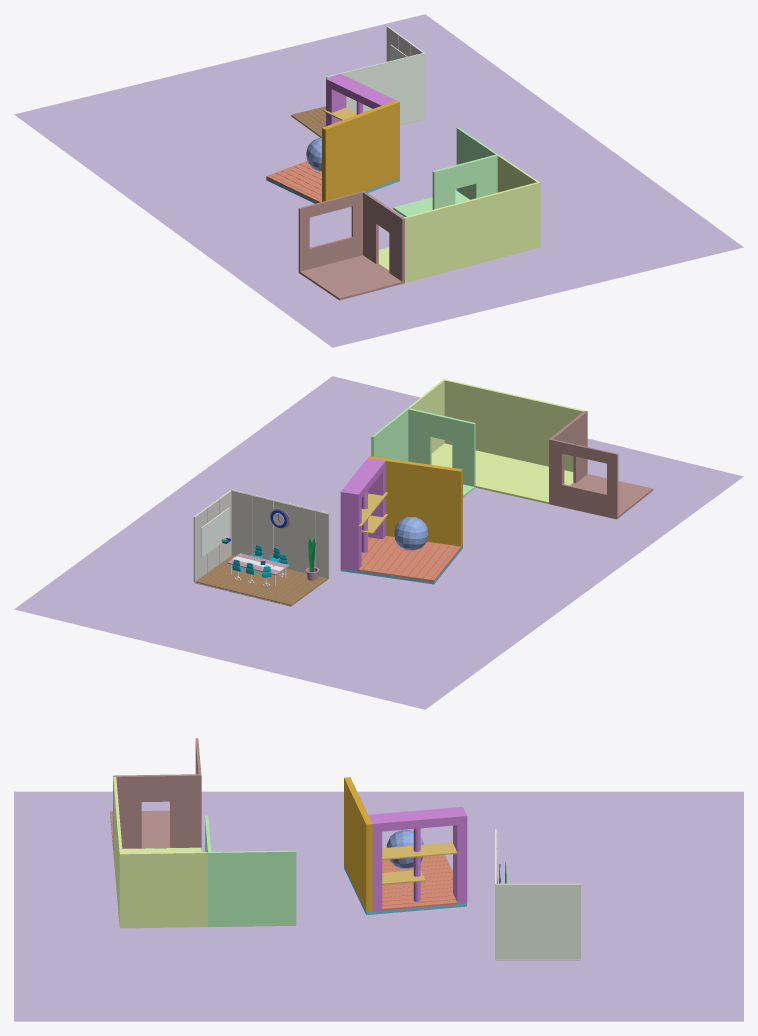
3 views of the same model, one above another, from view 1: azimuth 30°, elevation 25°; view 2: azimuth 150°, elevation 25°; view 3: azimuth 270°, elevation 25° (orthographic). The views are drawn at different scales.
Visible parts, largest first — view 1: Plane.004, Plane, Pared, Cube.001, Arco, Tabla_ini, Cube.002; view 2: Plane.004, Plane, Pared, Arco, Tabla_ini, Cube.002, Cube.005, Cube.006, Cube.003, Cube.020, Cube.004, Cube.008 (+1 smaller); view 3: Plane.004, Plane, Cube.018, Arco, Pared, Tabla_ini, Repisa_sup, Cube.020, Columna, Repisa_inf, Suelo.
Part boxes in pixels (x1,y1,x2,y2): Plane.004: (14, 14, 743, 347); Plane: (298, 127, 540, 300); Pared: (322, 100, 399, 201); Cube.001: (326, 53, 424, 124); Arco: (326, 73, 395, 126); Tabla_ini: (269, 161, 321, 200); Cube.002: (386, 26, 423, 61); Plane.004: (14, 376, 743, 709); Plane: (371, 379, 653, 519); Pared: (368, 456, 462, 547); Arco: (340, 458, 385, 570); Tabla_ini: (362, 536, 456, 580); Cube.002: (194, 490, 231, 582); Cube.005: (231, 490, 252, 556); Cube.006: (294, 506, 315, 573); Cube.003: (252, 495, 273, 560); Cube.020: (394, 517, 428, 550); Cube.004: (274, 500, 294, 570); Cube.008: (316, 511, 329, 579); Plane.004: (14, 791, 743, 1021); Plane: (110, 738, 296, 928); Cube.018: (495, 884, 580, 959); Arco: (368, 807, 467, 911); Pared: (344, 777, 372, 911); Tabla_ini: (382, 857, 452, 897); Repisa_sup: (382, 842, 457, 860); Cube.020: (386, 830, 423, 868); Columna: (413, 828, 420, 901); Repisa_inf: (382, 870, 425, 884); Suelo: (344, 865, 466, 914).
Size of the model in its own units: 54.04 by 9.94 by 72.52.
Materials: 37 (3 with a texture image).
